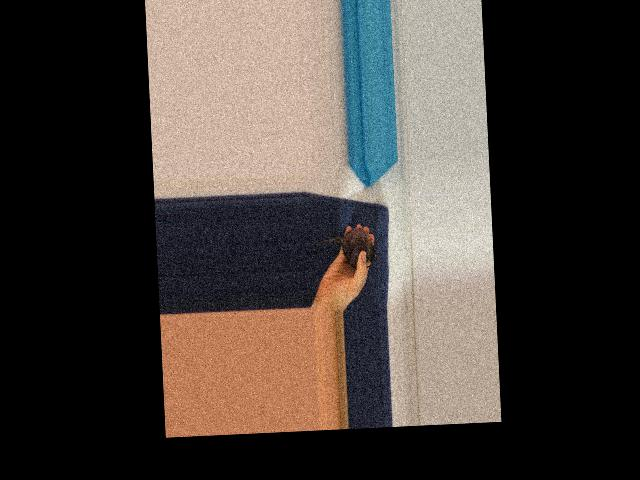beet: (318, 226, 377, 270)
